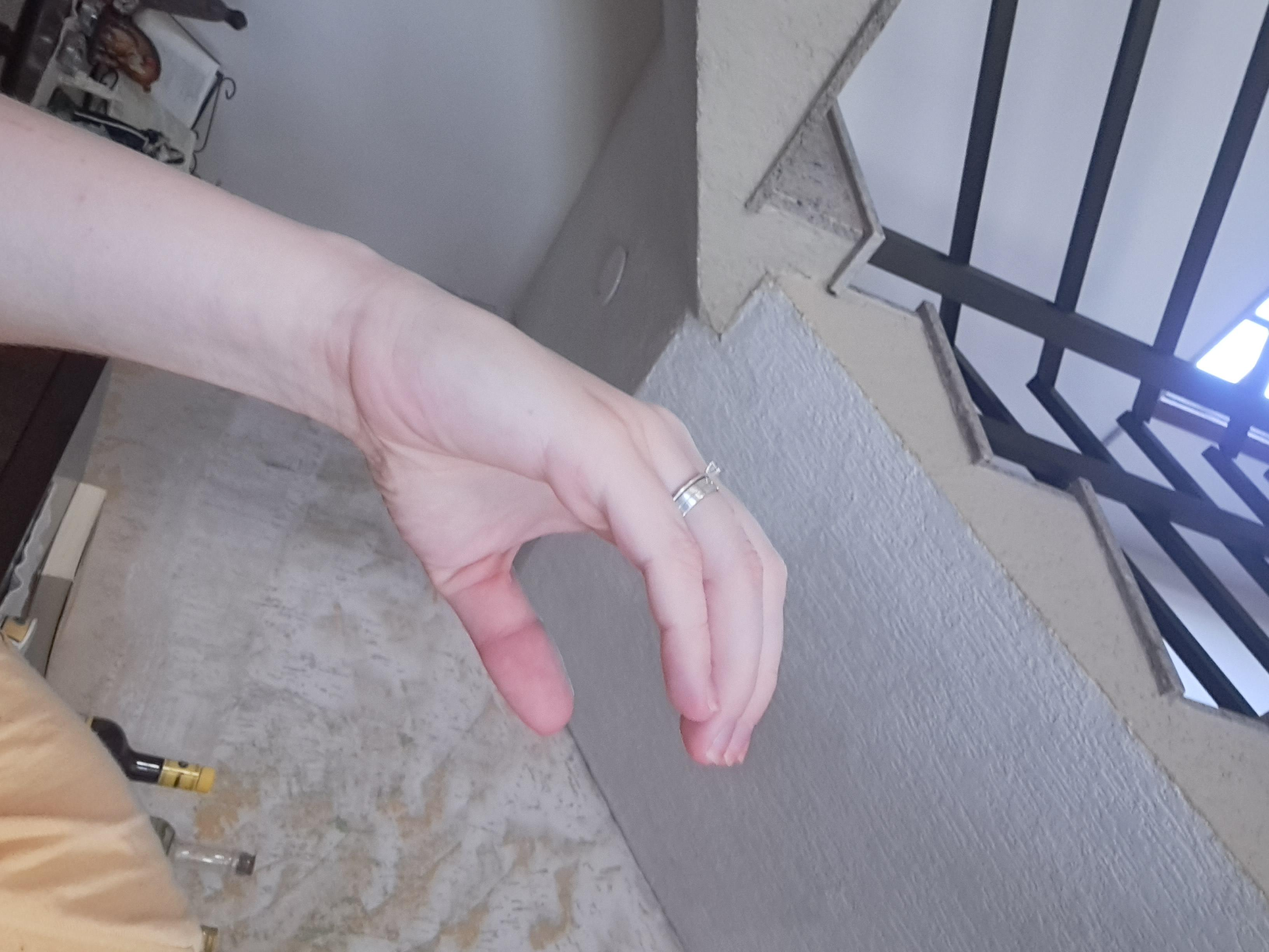C: (394, 335, 1032, 682)
